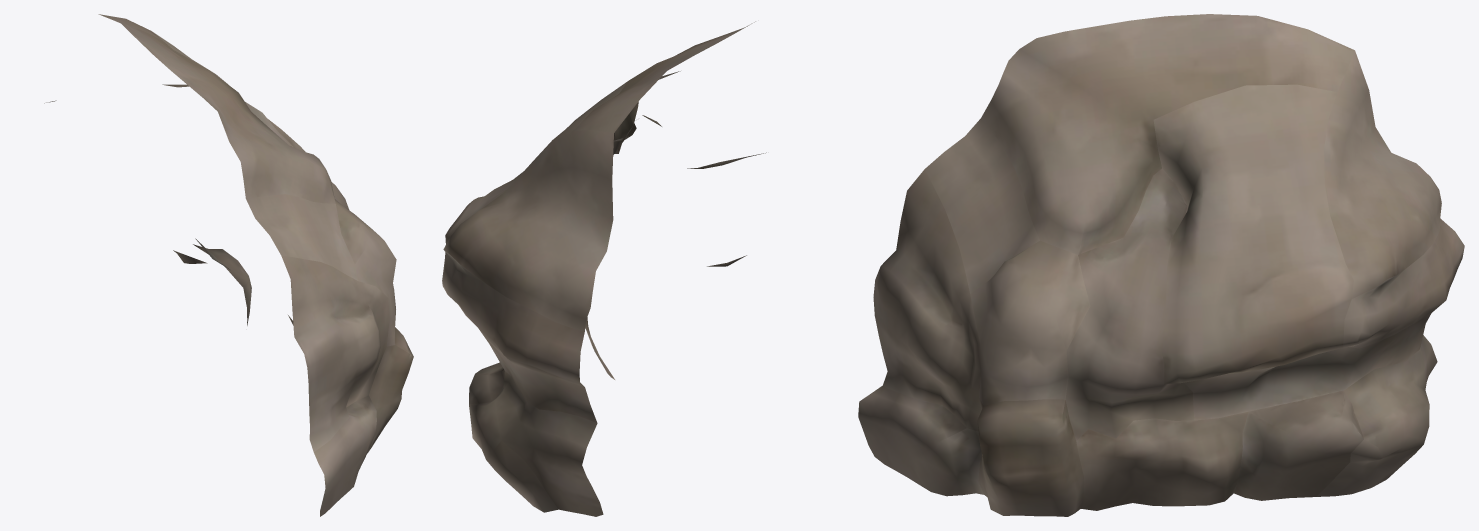
3 renders of one model, left to right at view 1: azimuth 30°, elevation 25°; view 2: azimuth 150°, elevation 25°; view 3: azimuth 270°, elevation 25°, orthographic. The views are drawn at different scales.
Parts seen in each view (by area): view 1: body0_model0_lod0_mesh0; view 2: body0_model0_lod0_mesh0; view 3: body0_model0_lod0_mesh0.
Boxes of the visible parts, x1,y1,x2,y2 form: body0_model0_lod0_mesh0: (44, 14, 413, 516); body0_model0_lod0_mesh0: (442, 21, 766, 516); body0_model0_lod0_mesh0: (858, 14, 1464, 516).
Size of the model in its own units: 531 by 918 by 1180.
1 material, 1 textured.
